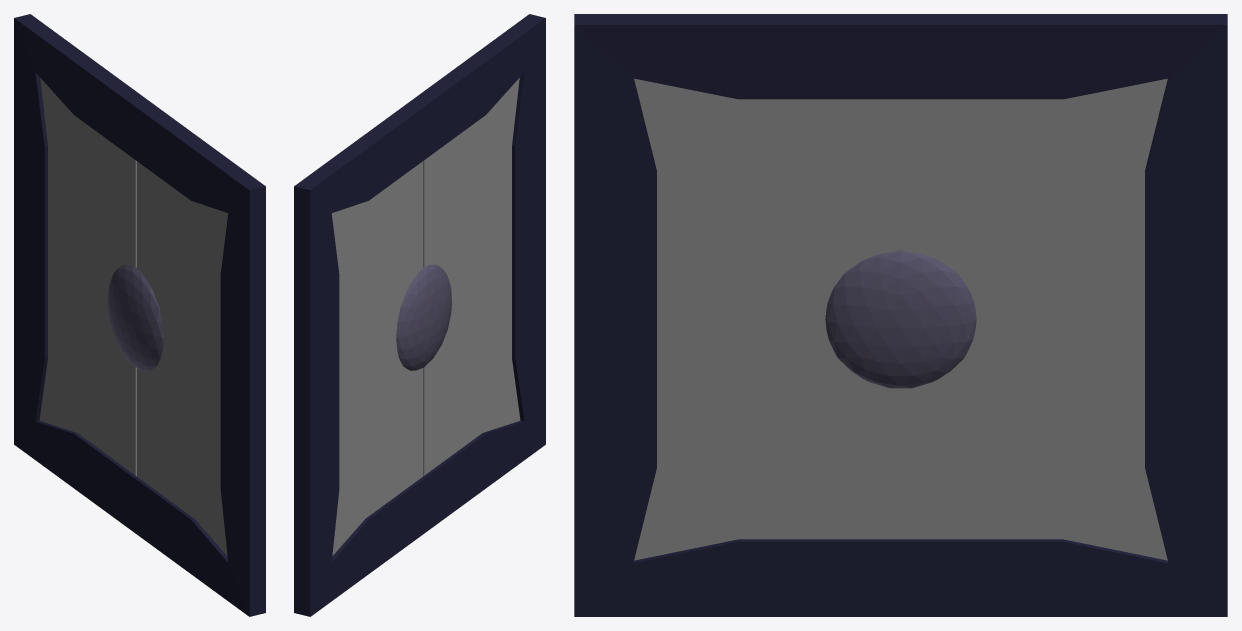
Rendered from airlockdoor.fbx.
The picture shows the model from 3 angles, left to right: view 1: azimuth 30°, elevation 25°; view 2: azimuth 150°, elevation 25°; view 3: azimuth 270°, elevation 25°; orthographic projection. The views are drawn at different scales.
Visible parts, largest first — view 1: Airlock Frame, Airlock Door, Airlock Lock; view 2: Airlock Frame, Airlock Door, Airlock Lock; view 3: Airlock Door, Airlock Frame, Airlock Lock.
Part boxes in pixels (x1,y1,x2,y2): Airlock Frame: (14,14,265,616); Airlock Door: (39,78,228,555); Airlock Lock: (108,264,163,370); Airlock Frame: (294,14,545,616); Airlock Door: (331,78,520,555); Airlock Lock: (396,264,451,370); Airlock Door: (634,78,1167,560); Airlock Frame: (574,14,1227,616); Airlock Lock: (825,249,976,388).
Size of the model in its own units: 19.28 by 250 by 250.
